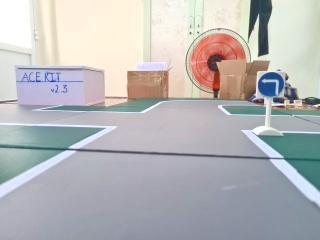left: (251, 68, 290, 101)
